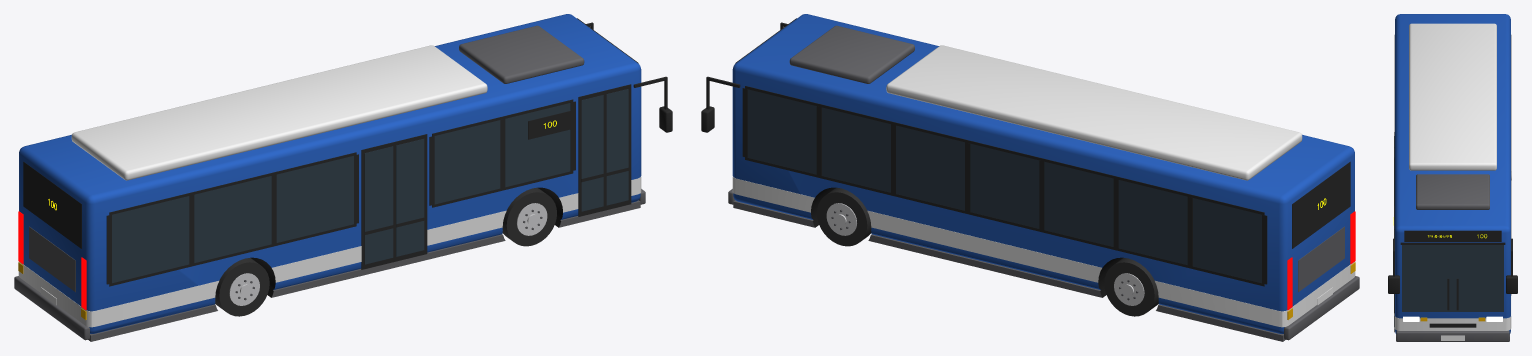
Rendered from bus_100.glb.
The picture shows the model from 3 angles, left to right: view 1: azimuth 30°, elevation 25°; view 2: azimuth 150°, elevation 25°; view 3: azimuth 270°, elevation 25°; orthographic projection. The views are drawn at different scales.
Visible parts, largest first — view 1: Bus100; view 2: Bus100; view 3: Bus100.
Part boxes in pixels (x1,y1,x2,y2): Bus100: (14,14,672,341); Bus100: (701,14,1359,341); Bus100: (1388,14,1517,341).
Bounding box in the file's own units: 11.58 × 3.12 × 2.8.
